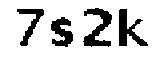2: (79, 5, 114, 53)
7: (13, 6, 46, 50)
k: (116, 6, 153, 52)
s: (48, 14, 76, 52)
